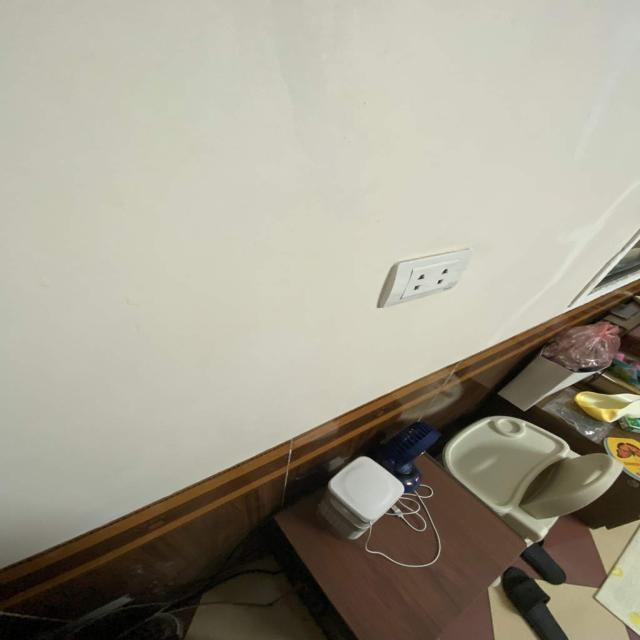outlet: (377, 247, 472, 308)
